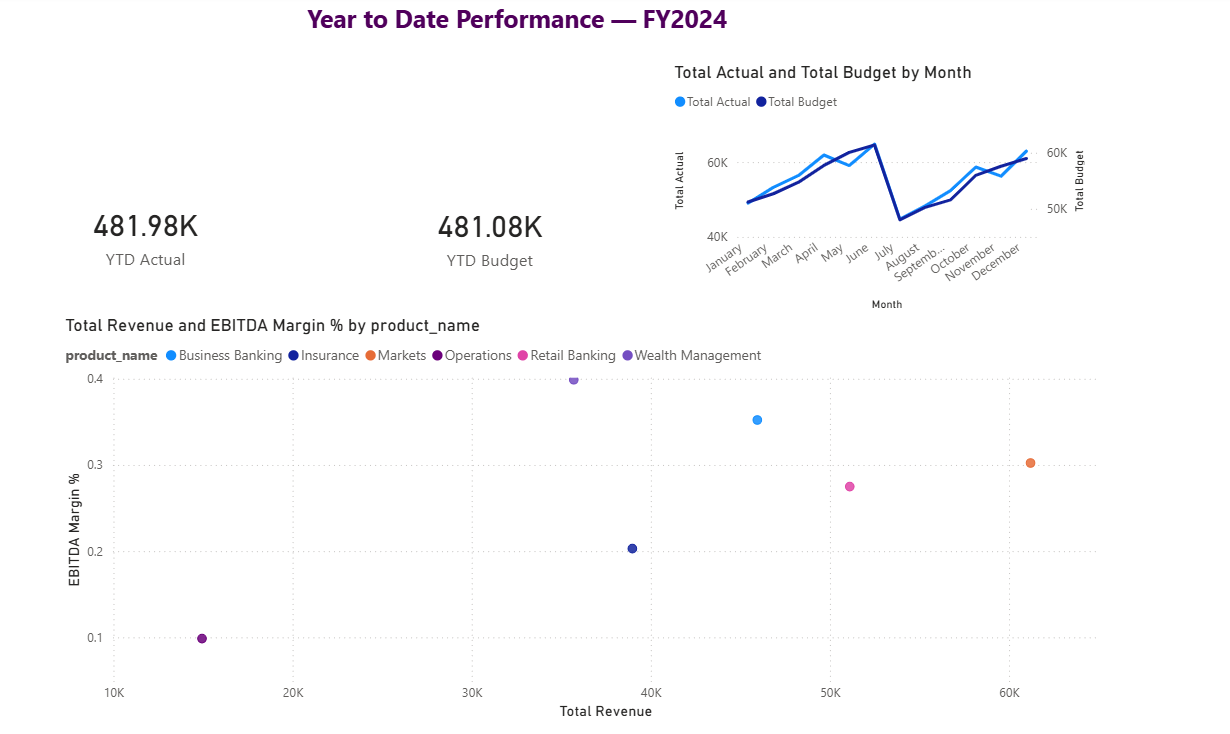

The page's visual inventory and layout, read from the dashboard file:
{"tool":"powerbi","page":{"name":"YTD Performance","canvas":[1280,720],"ordinal":2},"visuals":[{"type":"textbox","box":[302.5,0,452.3,64.2],"z":0},{"type":"card","fields":{"Values":["Measures (2).YTD Actual"]},"box":[0,81.7,300.5,299.6],"z":1},{"type":"card","fields":{"Values":["Measures (2).YTD Budget"]},"box":[330.7,93.4,309.3,278.2],"z":2},{"type":"lineChart","fields":{"Category":["dim_month.month_short.Variation.Date Hierarchy.Month","dim_month.month_short.Variation.Date Hierarchy.Day"],"Y":["Measures (2).Total Actual"],"Y2":["Measures (2).Total Budget"]},"box":[659.5,64.2,409.5,246.1],"z":3},{"type":"scatterChart","fields":{"X":["Measures (2).Total Revenue"],"Y":["Measures (2).EBITDA Margin %"],"Series":["dim_product.product_name"]},"box":[67.1,310.3,1025.2,398.8],"z":4}]}

Visuals, with their boxes on the page's 1280x720 design canvas (x1, y1, x2, y2). These are canvas units, not pixel positions in the 1230x734 screenshot, which may show the page scaled, cropped or inside an application window:
textbox: locate(302, 0, 755, 64)
card - Measures (2).YTD Actual: locate(0, 82, 300, 381)
card - Measures (2).YTD Budget: locate(331, 93, 640, 372)
lineChart - dim_month.month_short.Variation.Date Hierarchy.Month x dim_month.month_short.Variation.Date Hierarchy.Day: locate(660, 64, 1069, 310)
scatterChart - Measures (2).Total Revenue x Measures (2).EBITDA Margin %: locate(67, 310, 1092, 709)
